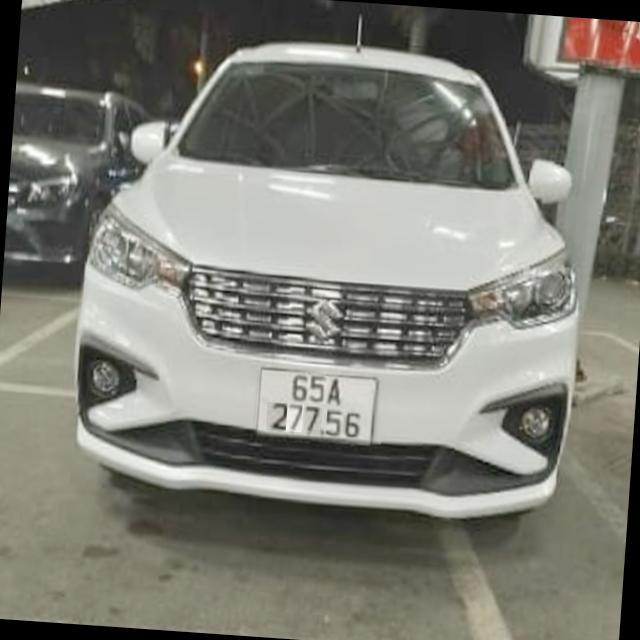car: (53, 25, 619, 531)
plate: (246, 361, 394, 452)
